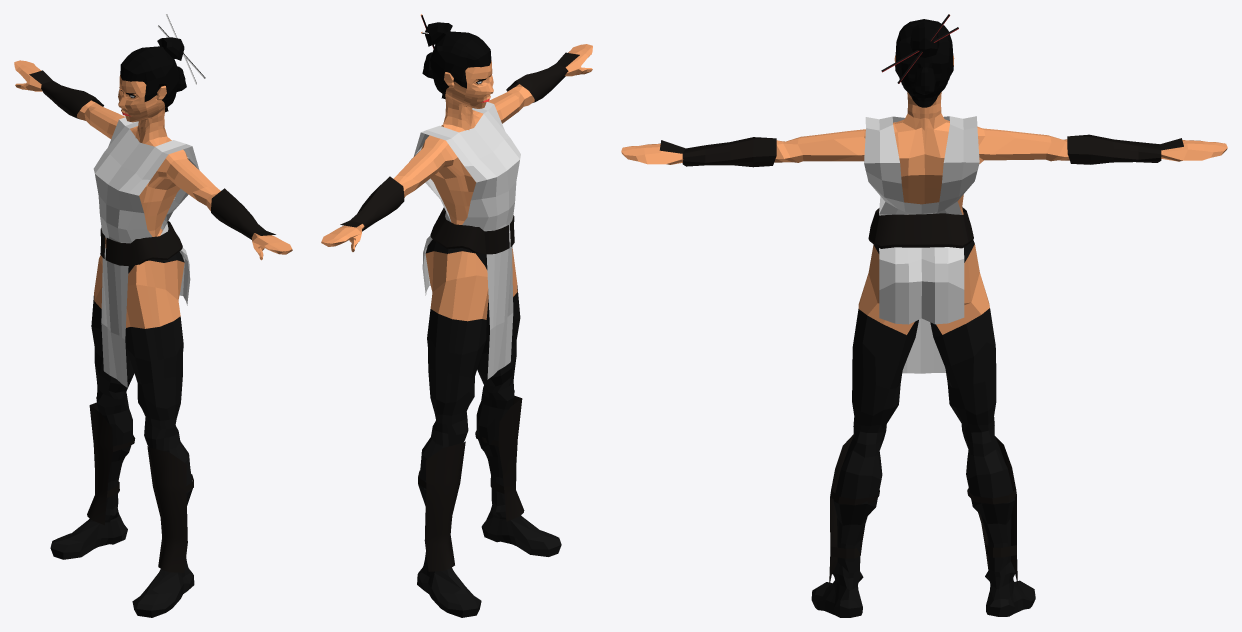
Rendered from MainCharacter.FBX.
3 renders of one model, left to right at view 1: azimuth 30°, elevation 25°; view 2: azimuth 150°, elevation 25°; view 3: azimuth 270°, elevation 25°, orthographic. The views are drawn at different scales.
Parts seen in each view (by area): view 1: Box001; view 2: Box001; view 3: Box001.
Boxes of the visible parts, <box> form: Box001: <box>14,14,292,617</box>; Box001: <box>321,14,592,617</box>; Box001: <box>621,14,1227,617</box>.
Size of the model in its own units: 9.53 by 51.95 by 45.41.
